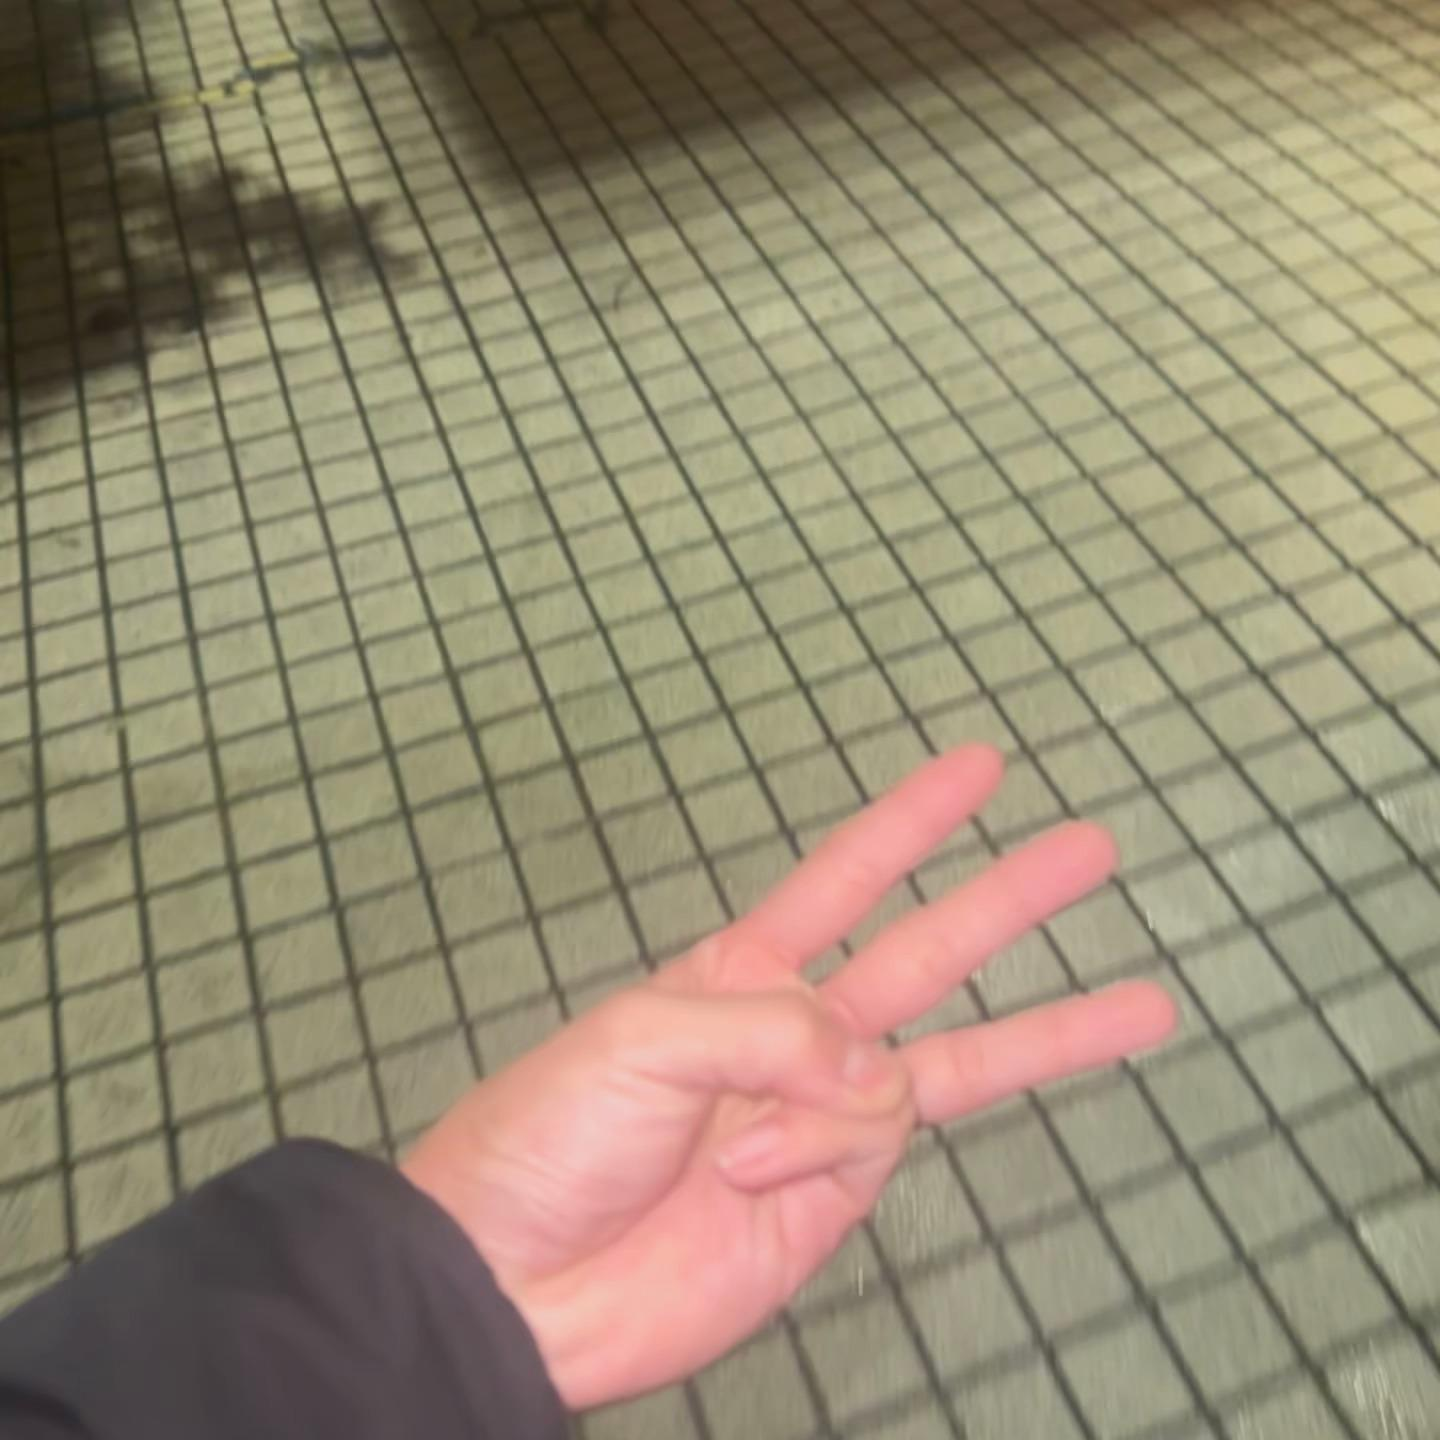without_gloves: (400, 559, 1238, 1296)
